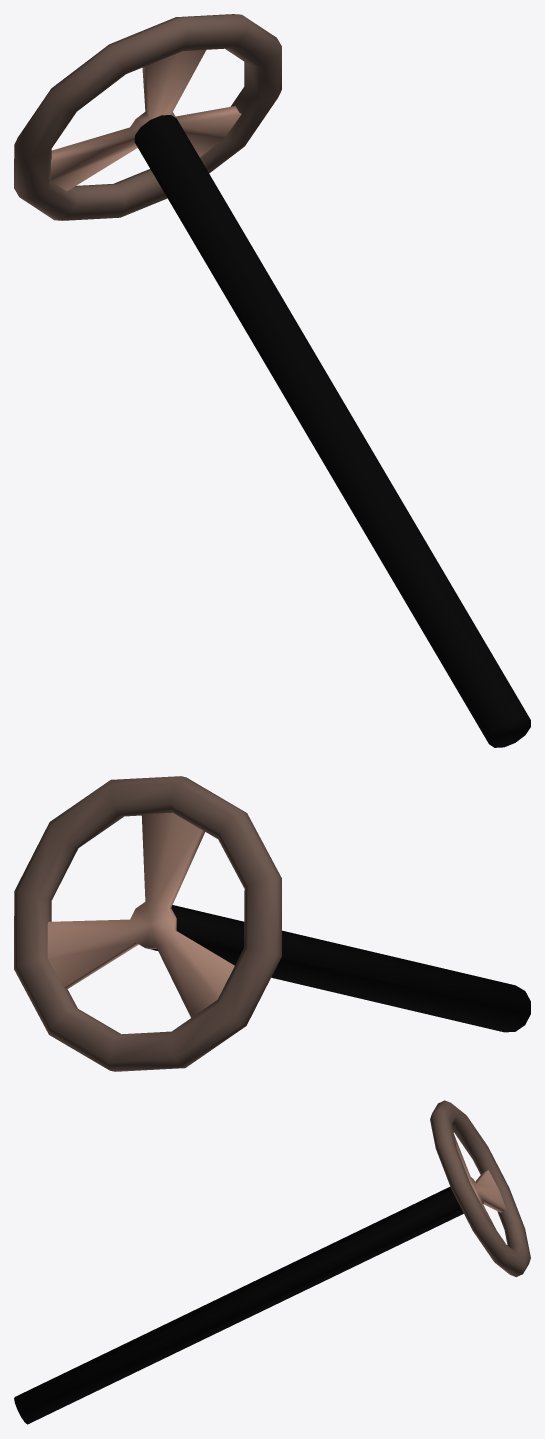
File: Steering_Wheel1.fbx
The picture shows the model from 3 angles, top to bottom: view 1: azimuth 30°, elevation 25°; view 2: azimuth 150°, elevation 25°; view 3: azimuth 270°, elevation 25°; orthographic projection. The views are drawn at different scales.
Parts seen in each view (by area): view 1: Steering_Wheel1; view 2: Steering_Wheel1; view 3: Steering_Wheel1.
Boxes of the visible parts, x1=… form: Steering_Wheel1: x1=14, y1=14, x2=530, y2=747; Steering_Wheel1: x1=14, y1=776, x2=530, y2=1071; Steering_Wheel1: x1=14, y1=1100, x2=530, y2=1424.
Bounding box in the file's own units: 0.4698 × 0.8431 × 1.26.
